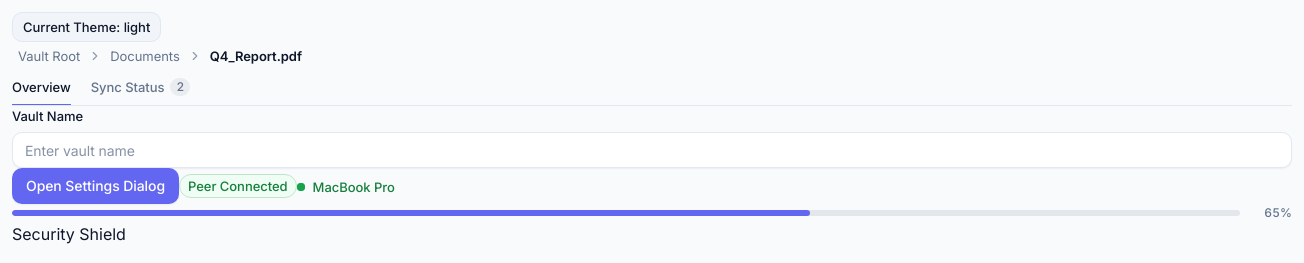
Scenario: Design System Consumer Integration Smoke Test › mounts ThemeProvider and successfully consumes components from all 4 categories
The width and height of the screenshot is (1304, 263).
Later steps or results of the test are not shown.
Expected: the button with aria-label "toggle current theme" reads "Current Theme: light", [12,12,161,42]
Expected: the text "Vault Root" is shown, [18,46,80,66]
Click the tab "Sync Status 2". click: (140, 88)
box: [91,70,190,106]
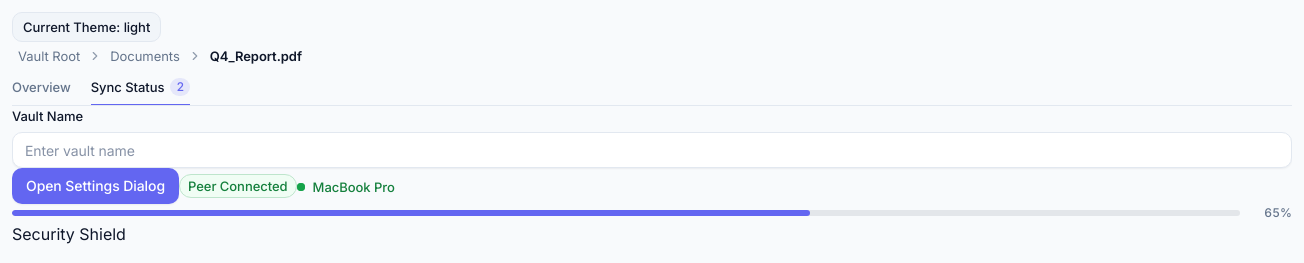
Now the tab "Sync Status 2" is selected, box [91,70,190,106]
